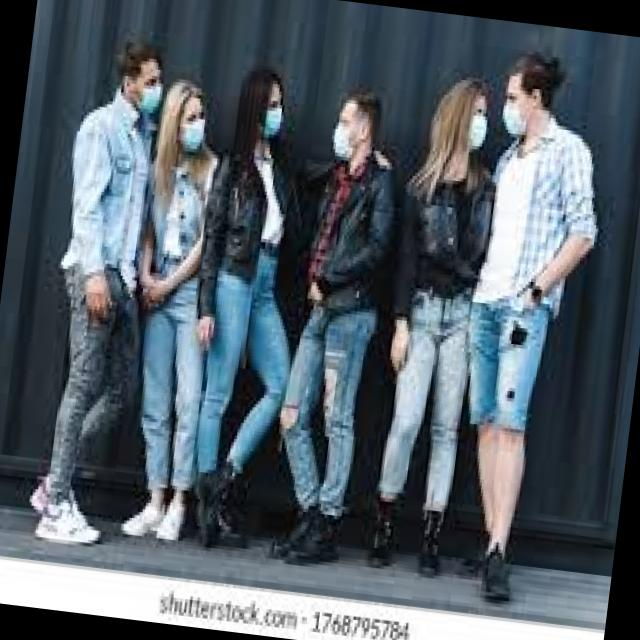Jacket: (386, 147, 504, 348), (192, 132, 306, 328), (294, 147, 398, 329)
